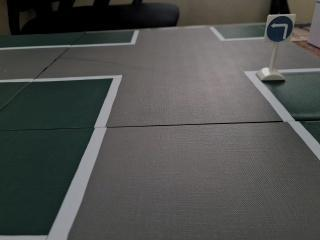left: (265, 13, 296, 44)
